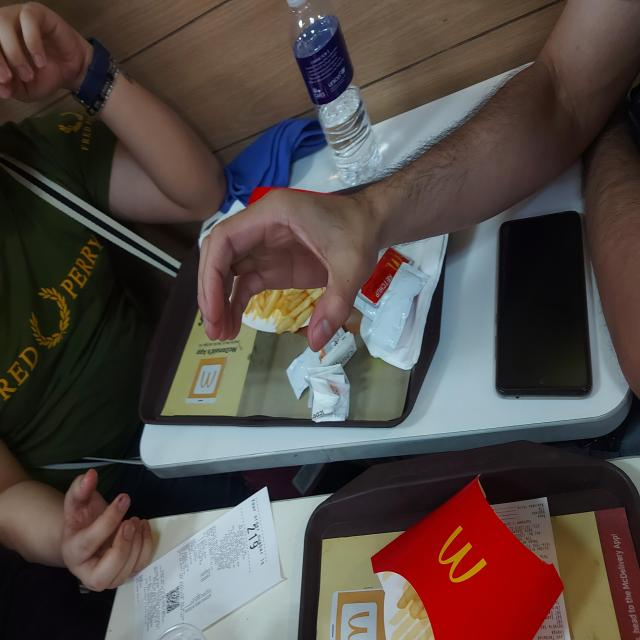C: (284, 195, 452, 378)
